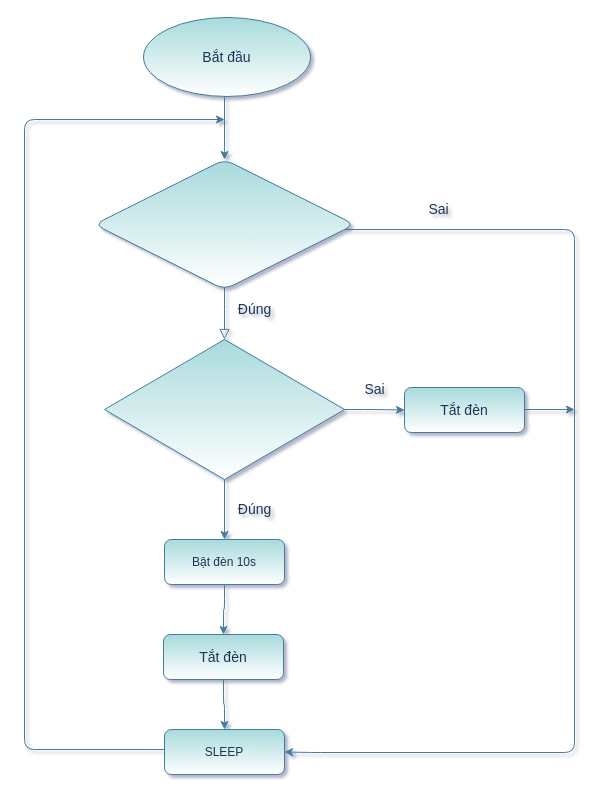
Some shapes in this 606 by 798 pixel diagram are drawn without their labels. Each missing label, with the centre of its shape:
"Giá trị logic Module cảm biến nhiệt" belongs at (x=224, y=224).
"Giá trị logic Module cảm biến ánh sáng" belongs at (x=224, y=409).
